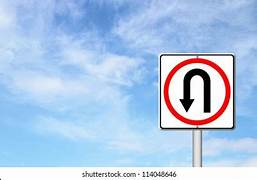back: (162, 56, 232, 126)
